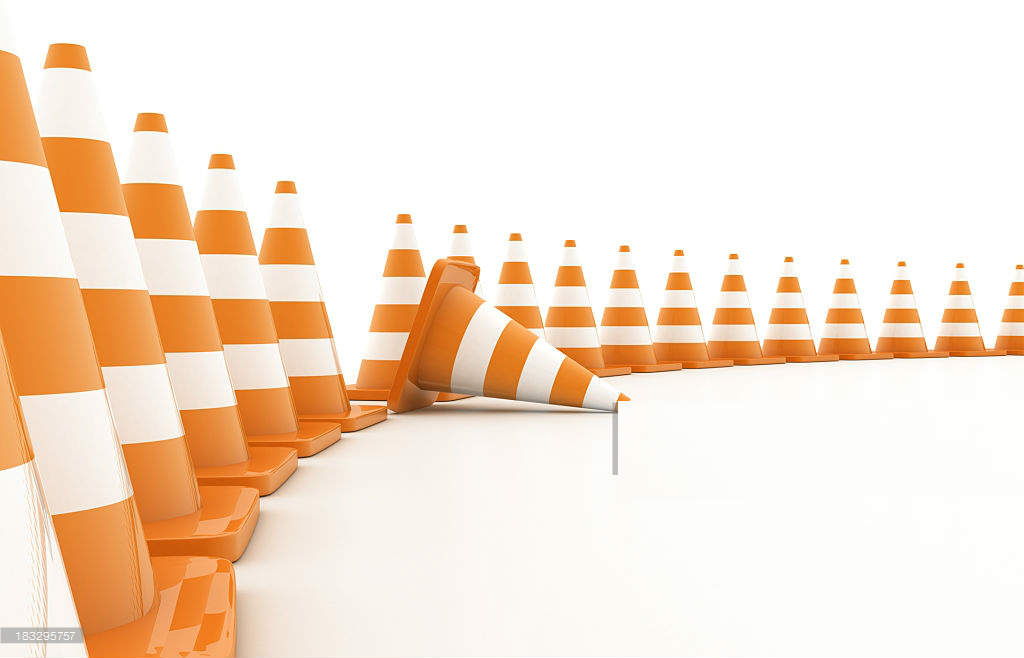trafficcone: (388, 256, 631, 418)
